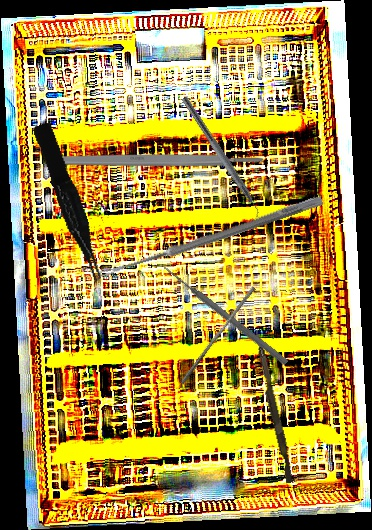Chopper: (172, 95, 269, 226)
Pusher: (161, 263, 290, 367), (179, 283, 257, 388), (248, 329, 298, 484)
Scalpel Handle: (48, 154, 263, 167)
Surgical Spoon: (98, 194, 324, 281)
Tissue Forceps: (32, 119, 106, 287)
